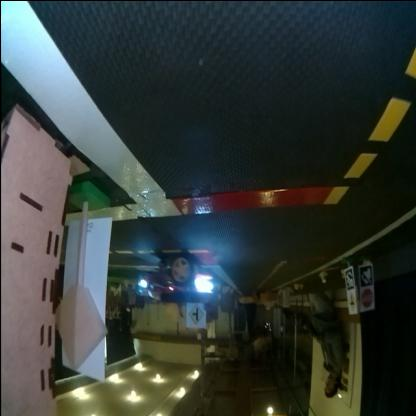Duckie: (318, 271, 328, 281), (295, 284, 299, 291)
Duckiebot: (140, 254, 214, 301)
Intersection sign: (188, 304, 205, 326), (347, 293, 357, 313)
QR code: (361, 267, 372, 283), (346, 268, 354, 287)
Stop sign: (360, 290, 373, 310)
